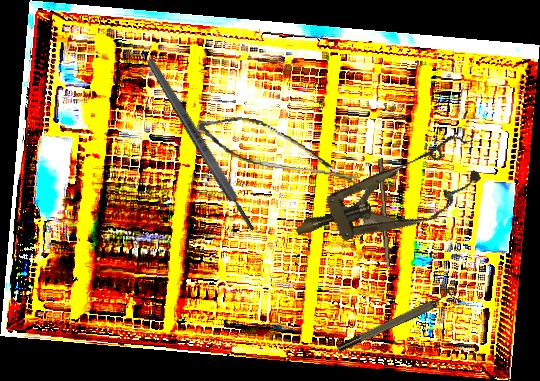Fixation Ring: (333, 284, 462, 355)
Micro Scissor: (192, 111, 367, 187)
Scalpel Handle: (143, 54, 259, 235), (374, 158, 393, 268)
Speculum: (283, 128, 489, 267)
